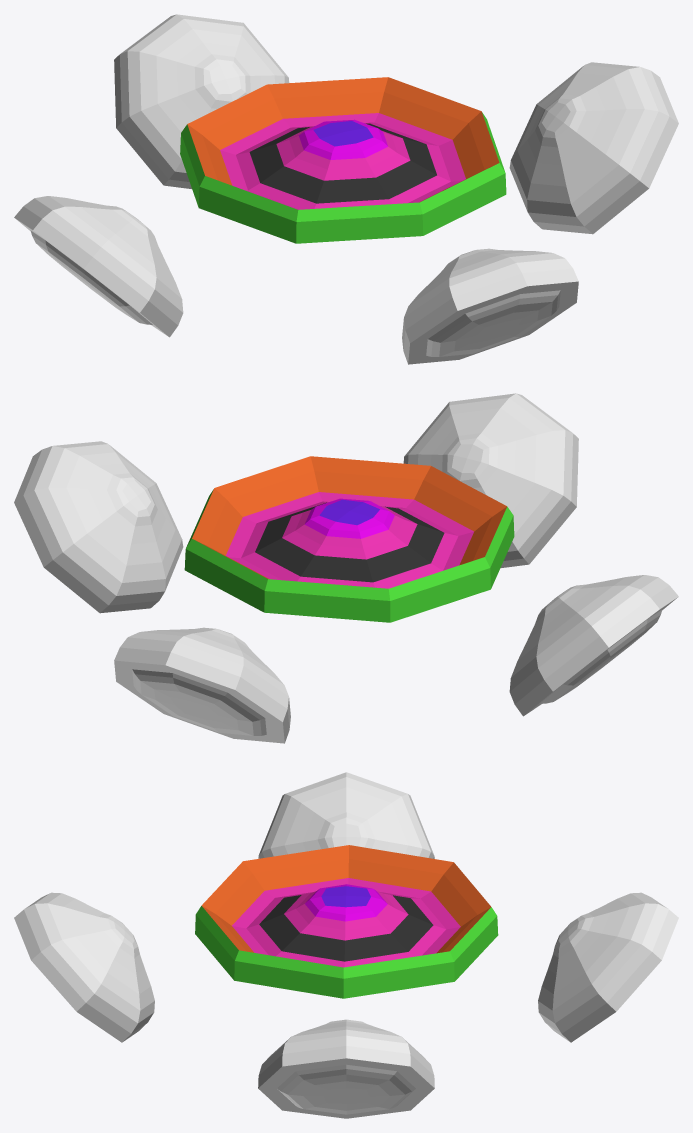
Rendered from DestroyerDiskv1Parts.fbx.
3 views of the same model, one above another, from view 1: azimuth 30°, elevation 25°; view 2: azimuth 150°, elevation 25°; view 3: azimuth 270°, elevation 25° (orthographic). The views are drawn at different scales.
Visible parts, largest first — view 1: Cube.006, Cube.005, Cube.002; view 2: Cube.006, Cube.005, Cube.002; view 3: Cube.006, Cube.002, Cube.005.
Part boxes in pixels (x1,y1,x2,y2): Cube.006: [180, 77, 506, 243]; Cube.005: [14, 62, 678, 337]; Cube.002: [114, 14, 578, 364]; Cube.006: [184, 456, 514, 622]; Cube.005: [14, 441, 678, 716]; Cube.002: [114, 393, 578, 743]; Cube.006: [195, 845, 498, 998]; Cube.002: [14, 892, 678, 1042]; Cube.005: [258, 772, 434, 1118].
Bounding box in the file's own units: 932 × 207 × 932.
